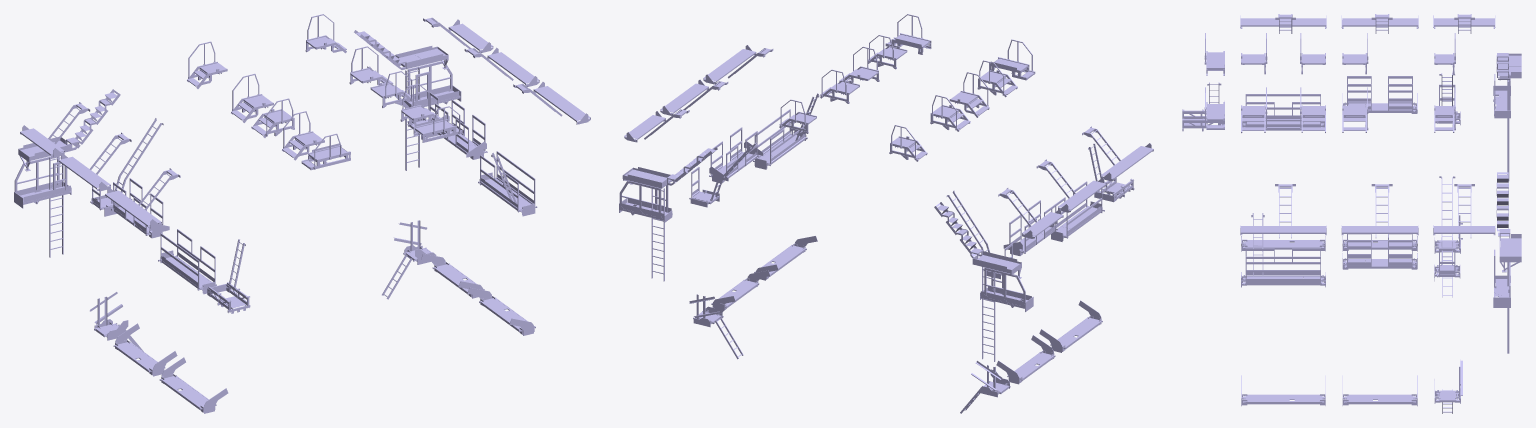
Rendered from Access-Platforms-Even-Sectors-cut1.glb.
3 views of the same model, side by side, from view 1: azimuth 30°, elevation 25°; view 2: azimuth 150°, elevation 25°; view 3: azimuth 270°, elevation 25° (orthographic). The views are drawn at different scales.
Parts seen in each view (by area): view 1: S__000002162395F8A0_04; view 2: S__000002162395F8A0_04; view 3: S__000002162395F8A0_04.
Part boxes in pixels (left/top/right/bottom): S__000002162395F8A0_04: left=14, top=14, right=590, bottom=413; S__000002162395F8A0_04: left=619, top=14, right=1153, bottom=413; S__000002162395F8A0_04: left=1182, top=14, right=1521, bottom=413.
Bounding box in the file's own units: 17.16 × 10.93 × 11.48.
